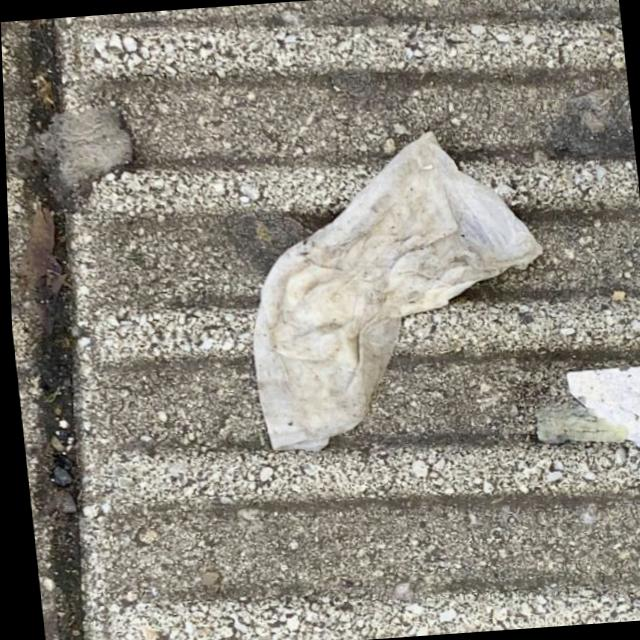Paper: (228, 115, 560, 461), (560, 362, 640, 457)
